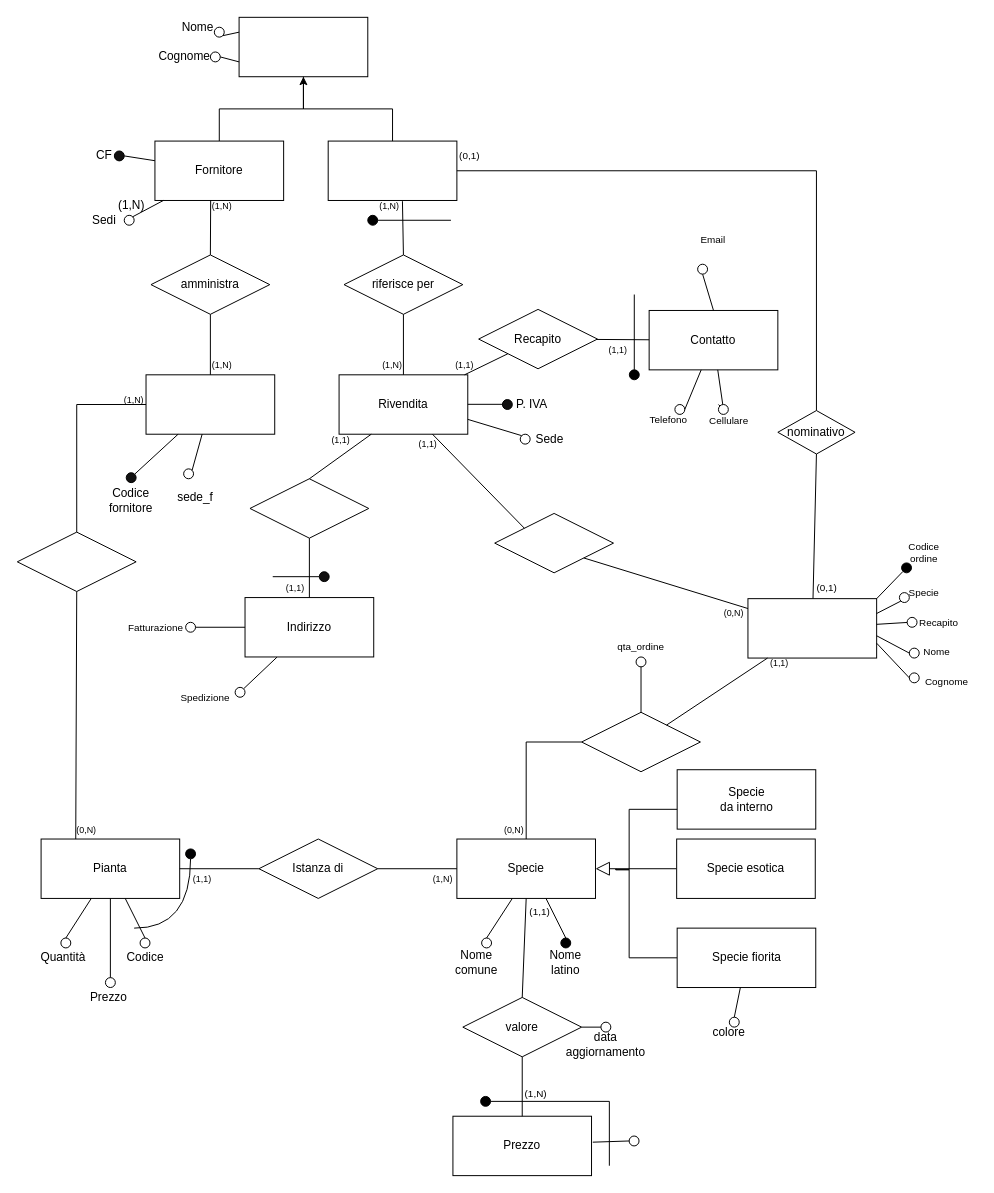
The diagram is 994 pixels wide and 1193 high, and some of its shapes have lost their labels. Each missing label, with the box of its shape:
Azienda Fornitrice: (145, 374, 275, 434)
contenuto: (581, 711, 700, 772)
effettua: (494, 512, 614, 573)
Gestore: (238, 16, 368, 77)
locazione: (249, 478, 369, 538)
ordine: (747, 598, 877, 658)
Referente: (327, 140, 457, 200)
rifornisce di: (16, 531, 136, 592)
